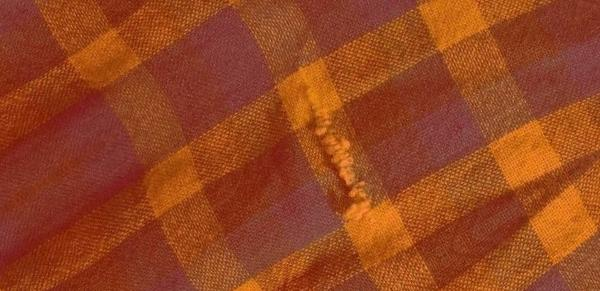knot: (293, 63, 376, 226)
